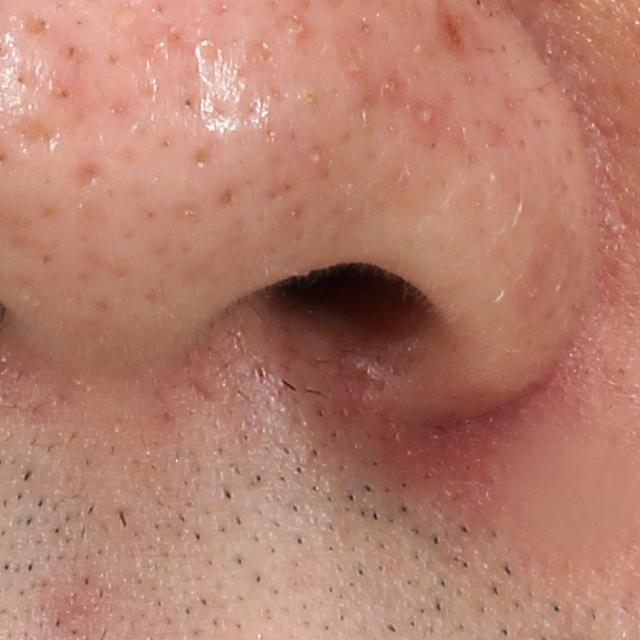atrophic_scar: (6, 111, 66, 160), (66, 158, 101, 202)
pustule: (415, 102, 444, 129)
